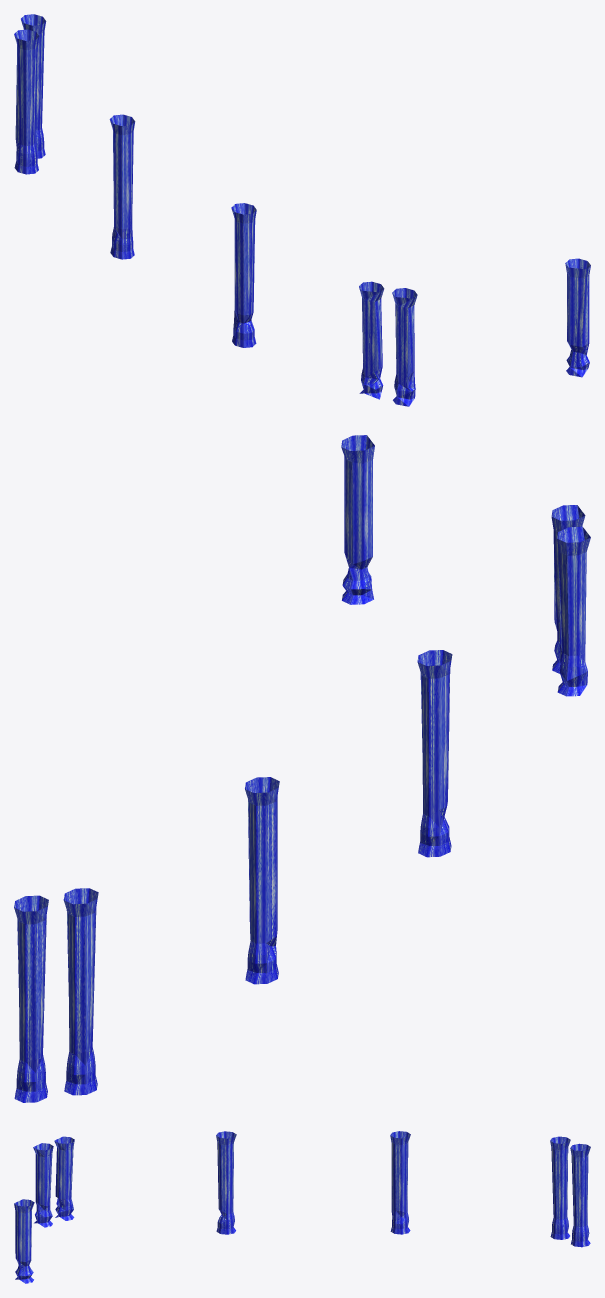
3 renders of one model, top to bottom at view 1: azimuth 30°, elevation 25°; view 2: azimuth 150°, elevation 25°; view 3: azimuth 270°, elevation 25°, orthographic. The views are drawn at different scales.
Bounding box in the file's own units: 0.4341 × 0.2581 × 1.4.
1 material, 1 textured.
